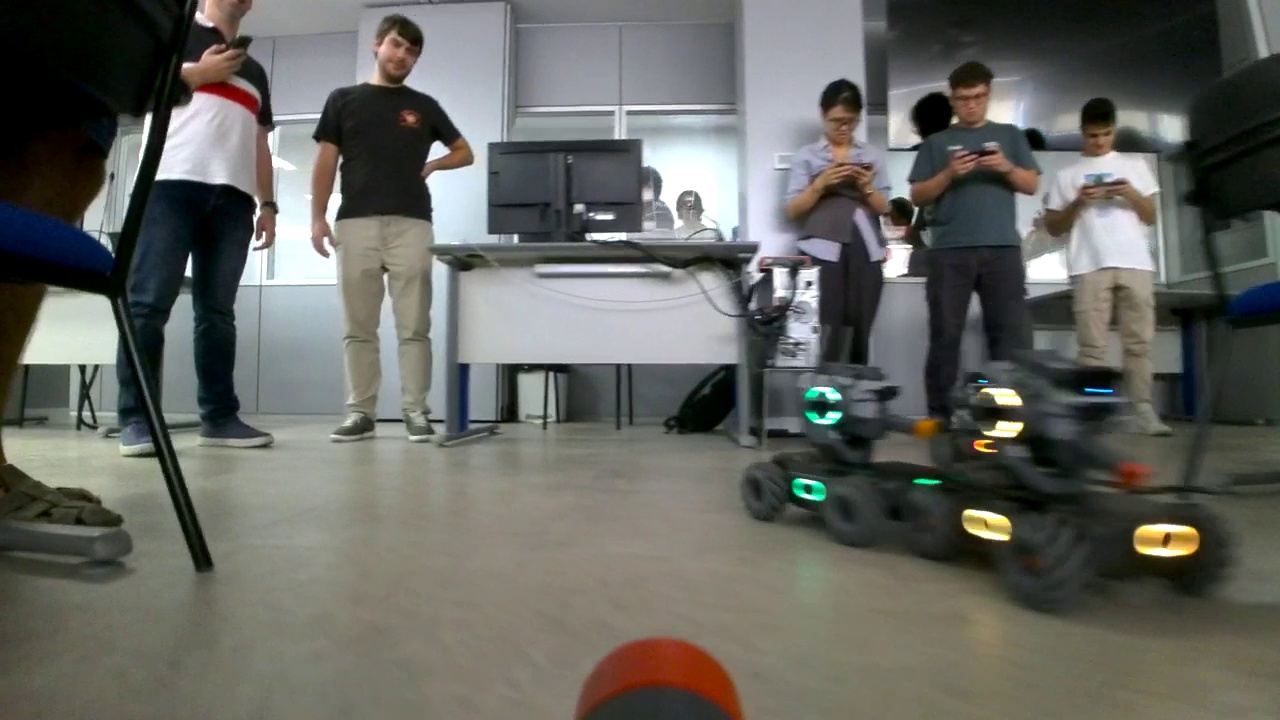robot: (908, 335, 1226, 615), (734, 328, 944, 548)
